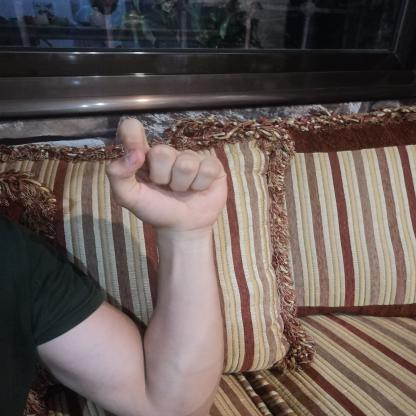FAA: (90, 108, 244, 242)
